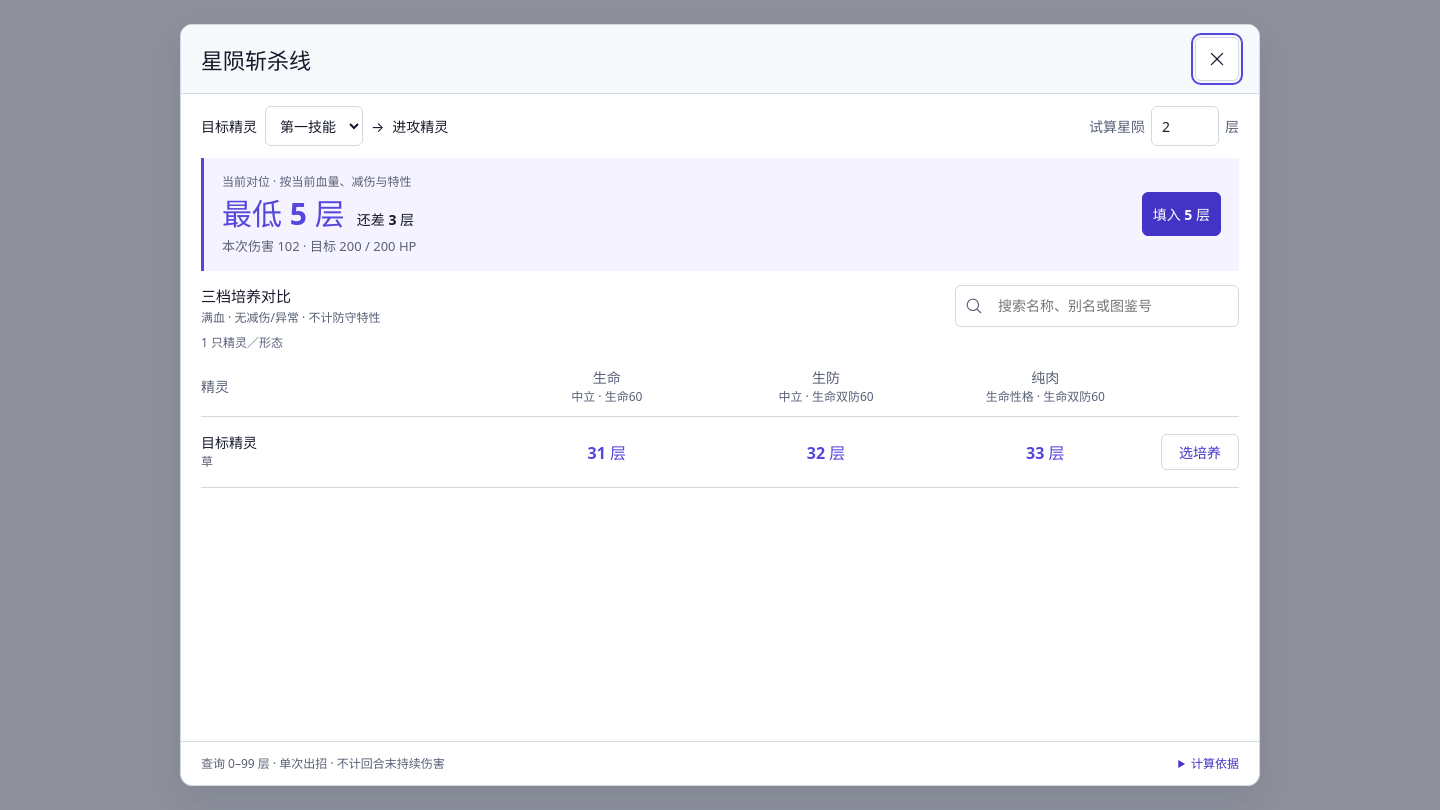
Scenario: 试算层数只更新预览，不提交主配置
The image size is (1440, 810).
Expected: the button "填入 5 层" is shown, [1142,192,1221,236]
Replace the text in the number field named "试算星陨层数" with "8": coordinates (1185, 126) [1151,106,1219,146]
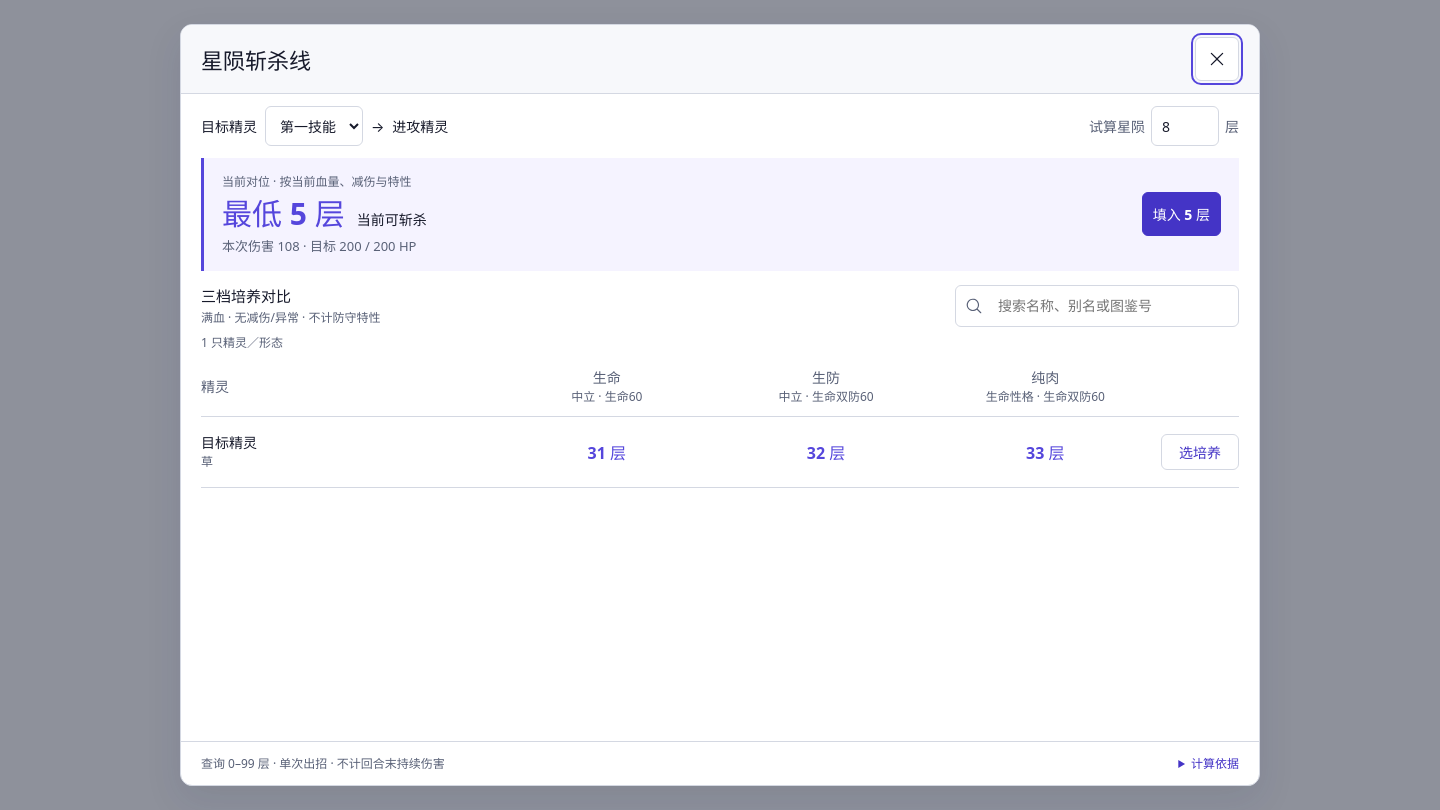
Expected: the text "本次伤害 108 · 目标 200 / 200 HP" is shown, [222,237,427,257]
